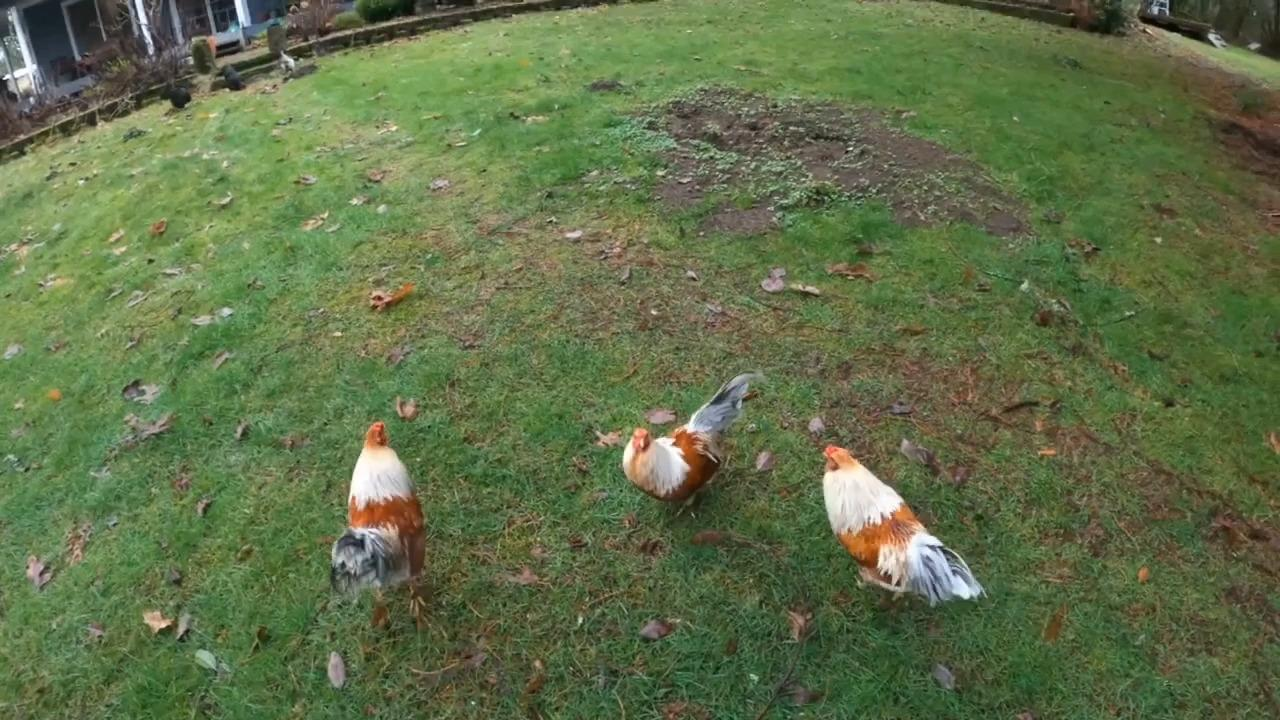Normal: (806, 436, 990, 612), (328, 400, 450, 624), (602, 388, 752, 520)
